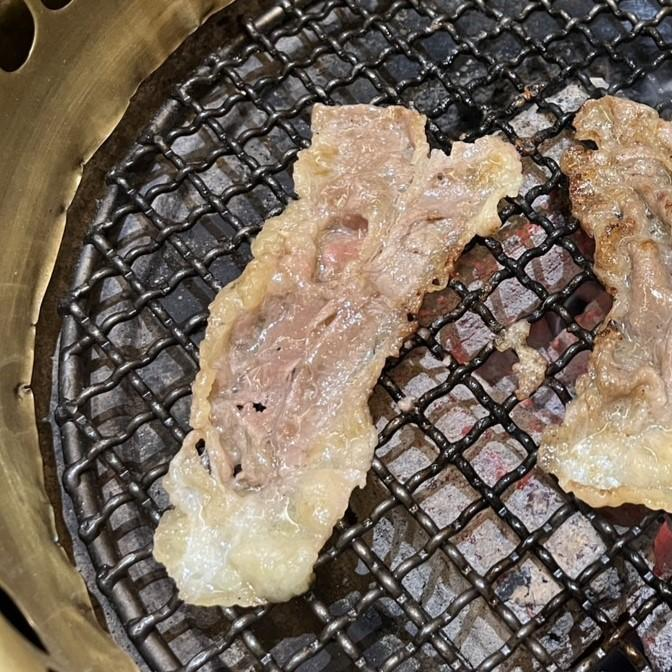Well-Cooked: (154, 105, 522, 607), (538, 96, 671, 512)
